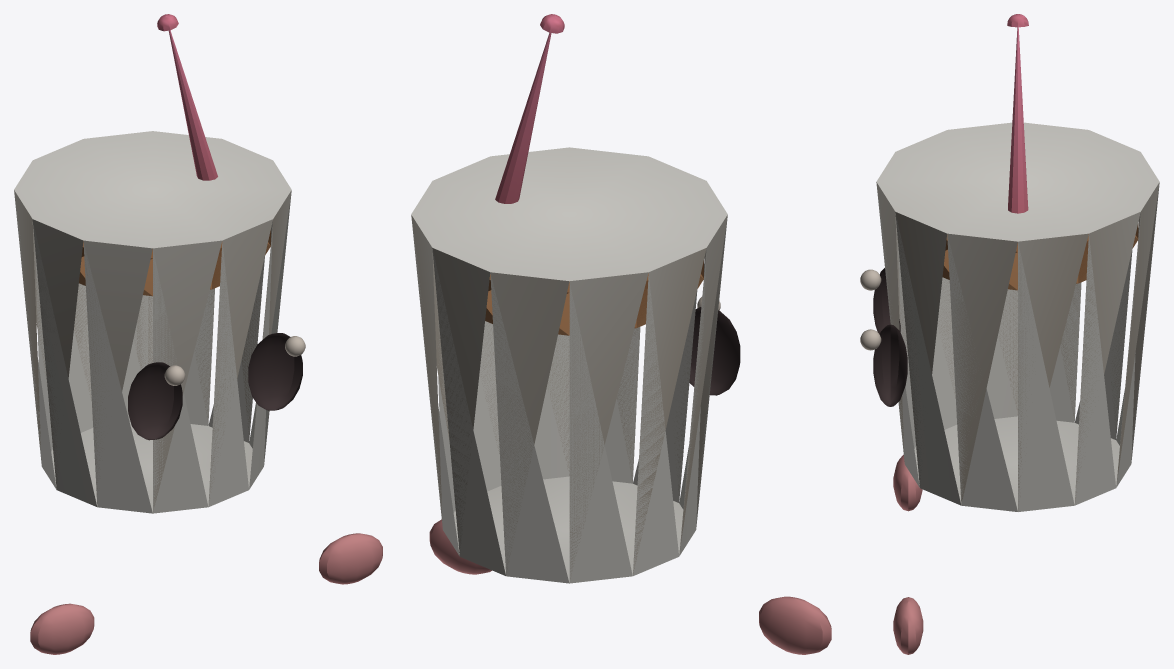
File: pcd590c4a.glb
3 views of the same model, side by side, from view 1: azimuth 30°, elevation 25°; view 2: azimuth 150°, elevation 25°; view 3: azimuth 270°, elevation 25° (orthographic). The views are drawn at different scales.
Visible parts, largest first — view 1: pet_pcd590c4a; view 2: pet_pcd590c4a; view 3: pet_pcd590c4a.
Boxes of the visible parts, x1=… form: pet_pcd590c4a: x1=14, y1=14, x2=382, y2=654; pet_pcd590c4a: x1=411, y1=14, x2=831, y2=654; pet_pcd590c4a: x1=860, y1=14, x2=1159, y2=654.
Size of the model in its own units: 0.2932 by 0.4447 by 0.2114.
